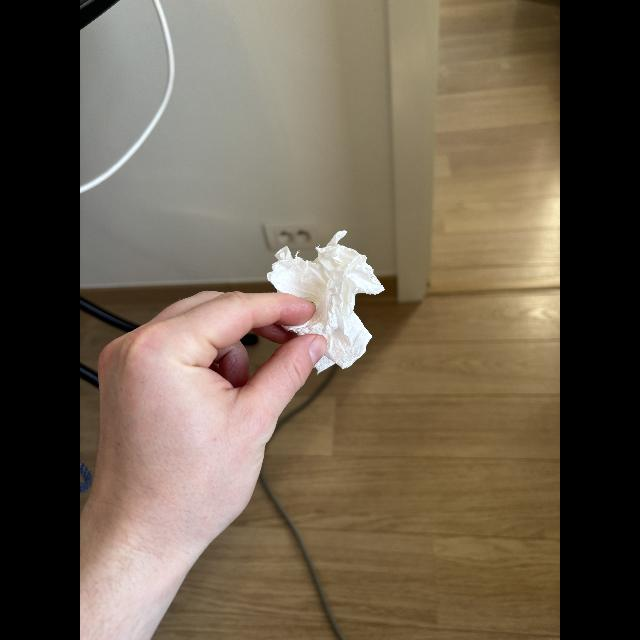Paper: (264, 221, 394, 375)
